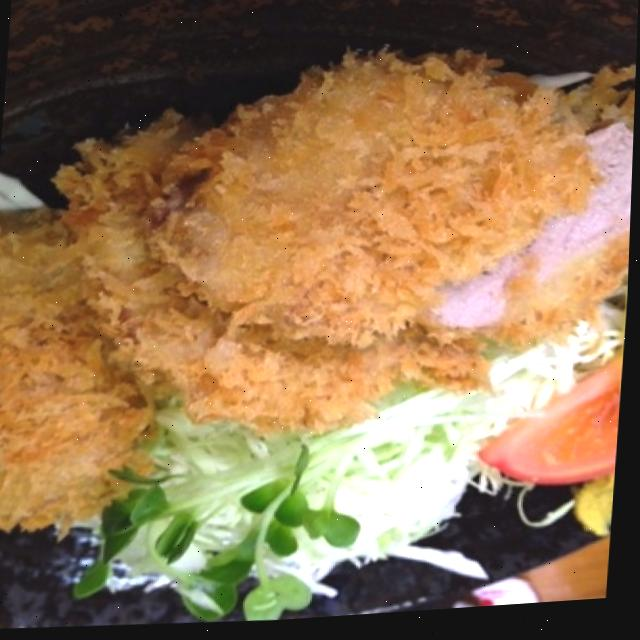牛肉菜式: (0, 0, 639, 619)
